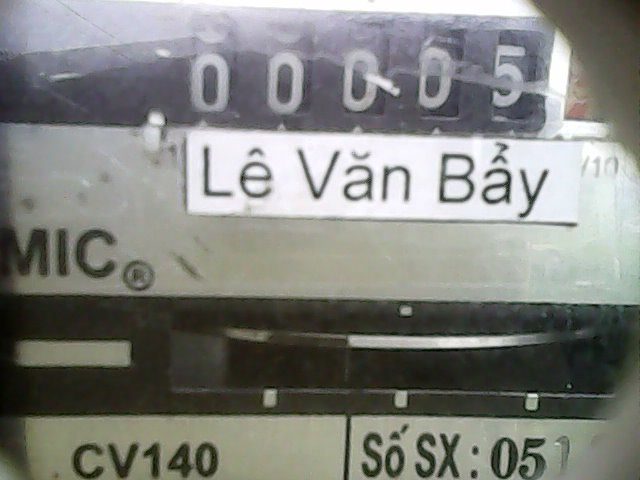phy_plate: (146, 4, 625, 145)
